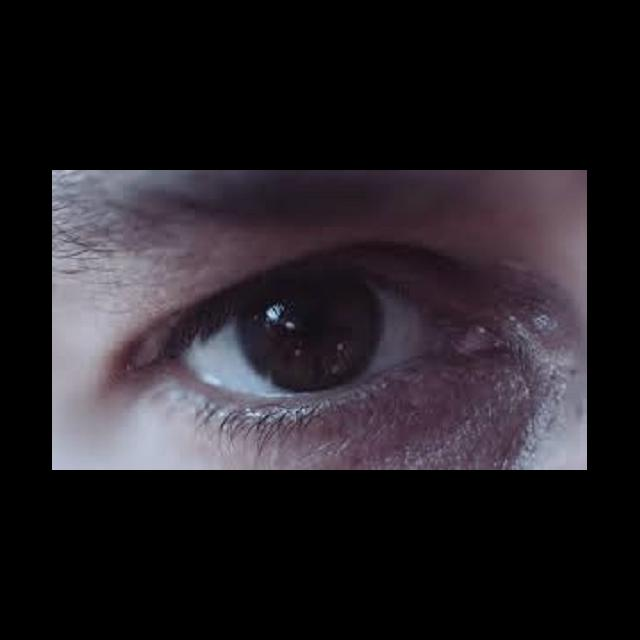eye: (184, 284, 442, 397)
iris: (238, 290, 386, 397)
